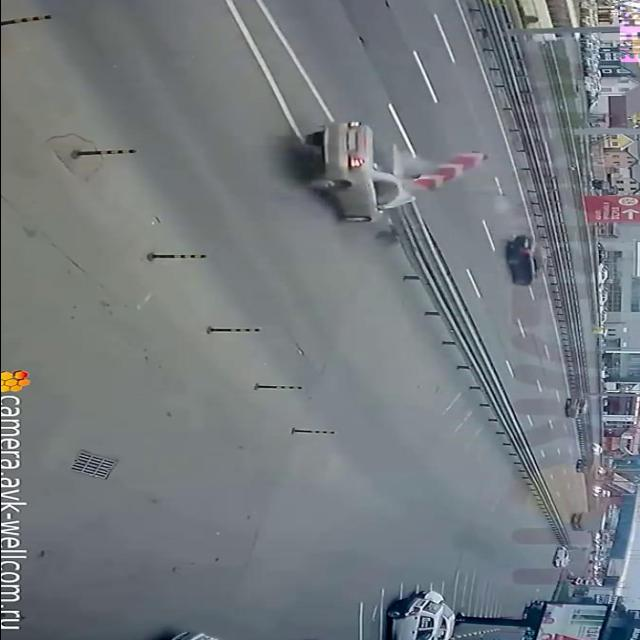accident: (278, 114, 449, 237)
